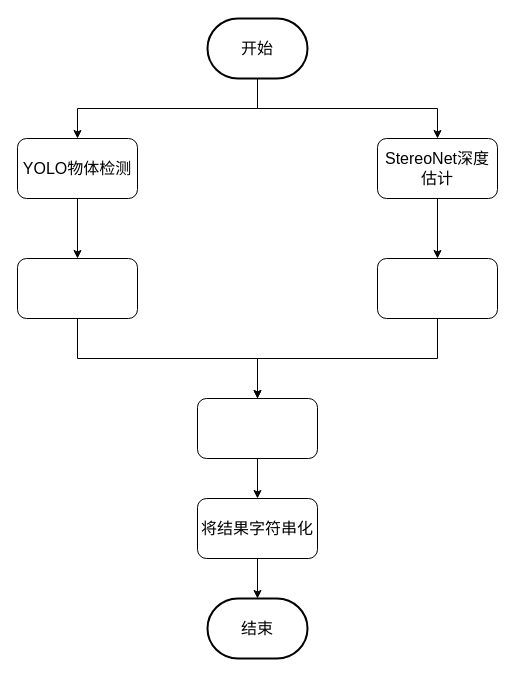
Some shapes in this 515 by 676 pixel diagram are drawn without their labels. The box of each missing label's shape, as (x1, y1, x2, y2) in pixels:
对深度图采样并转化为距离值: (376, 258, 498, 318)
检测结果与深度信息匹配: (196, 398, 318, 458)
遍历所有物体检测框: (16, 258, 138, 318)
